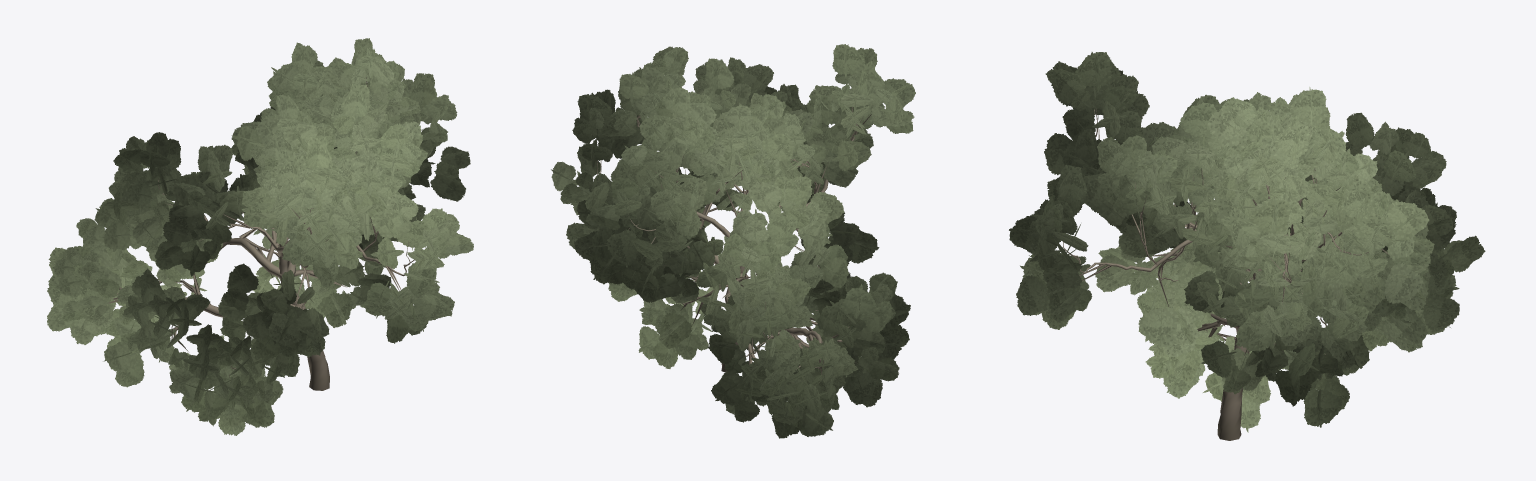
File: olivo-alto.glb
3 renders of one model, left to right at view 1: azimuth 30°, elevation 25°; view 2: azimuth 150°, elevation 25°; view 3: azimuth 270°, elevation 25°, orthographic. The views are drawn at different scales.
Visible parts, largest first — view 1: olivo; view 2: olivo; view 3: olivo.
Part boxes in pixels (x1,y1,x2,y2): olivo: (47, 38, 473, 435); olivo: (551, 44, 915, 438); olivo: (1009, 52, 1485, 440).
Bounding box in the file's own units: 6.21 × 6 × 6.41.
Materials: 2 (1 with a texture image).
